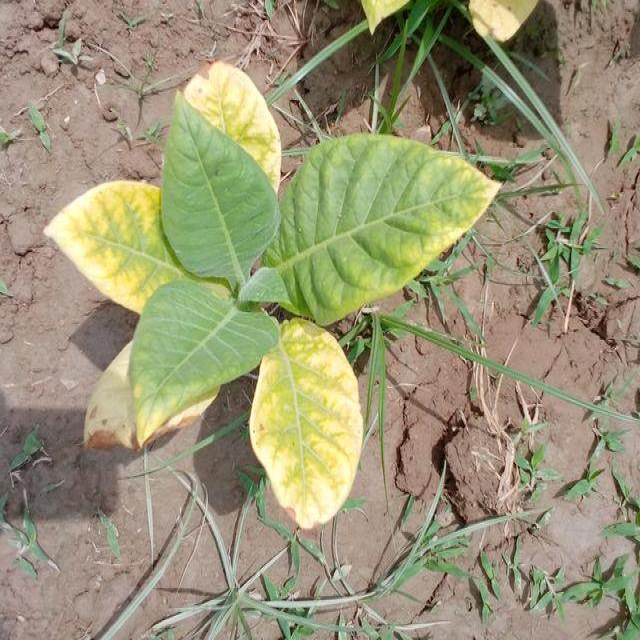crop: (69, 77, 477, 517)
